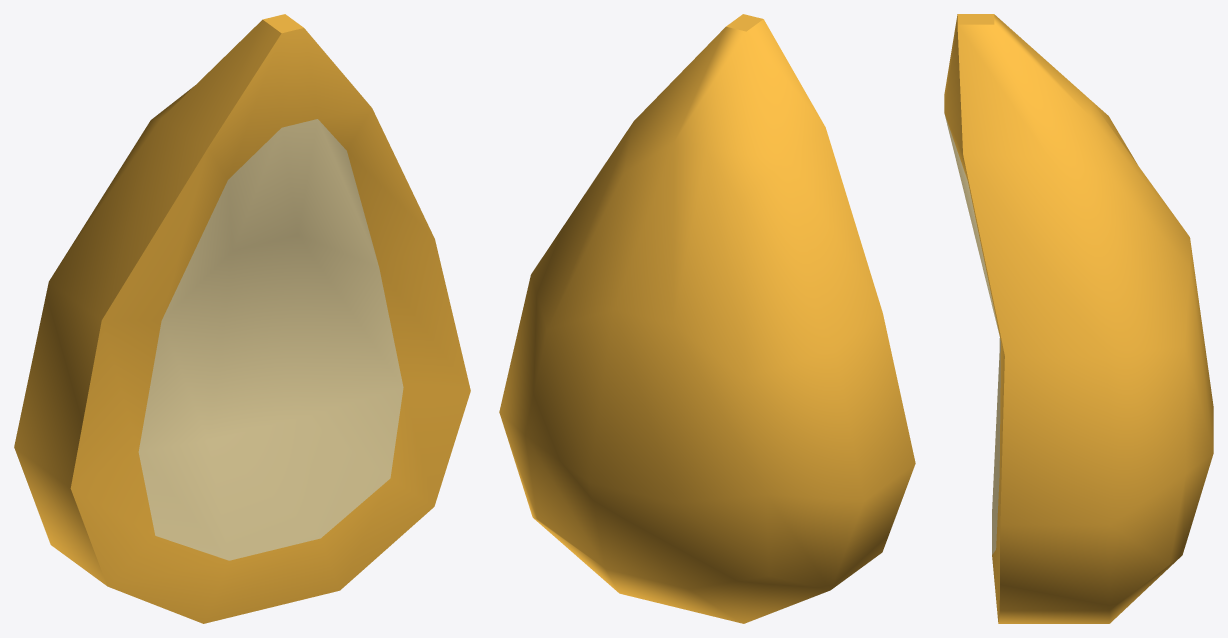
File: ear.glb
The picture shows the model from 3 angles, left to right: view 1: azimuth 30°, elevation 25°; view 2: azimuth 150°, elevation 25°; view 3: azimuth 270°, elevation 25°; orthographic projection. The views are drawn at different scales.
Parts seen in each view (by area): view 1: singleEar; view 2: singleEar; view 3: singleEar.
Part boxes in pixels (box(x1,y1,x2,y2)): singleEar: box(14, 14, 470, 623); singleEar: box(499, 14, 915, 623); singleEar: box(944, 14, 1213, 623).
Size of the model in its own units: 0.4197 by 0.5934 by 0.2532.
Materials: 1 (1 with a texture image).
